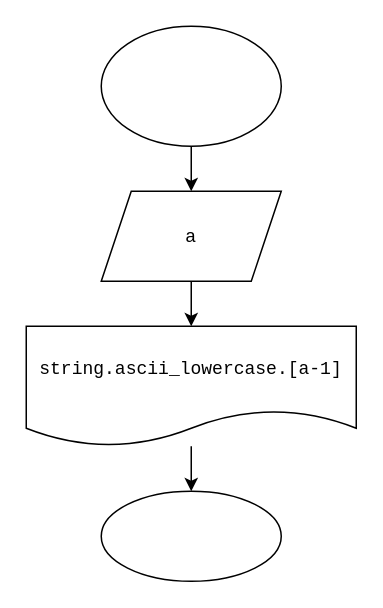
The diagram is 383 pixels wide and 608 high, and some of its shapes have lost their labels. The shapes that lost their labels are listed below. From the top down, each one's box as (x1, y1, x2, y2) in pixels, then its label:
(100, 25, 281, 146): начало
(100, 490, 281, 581): конец
